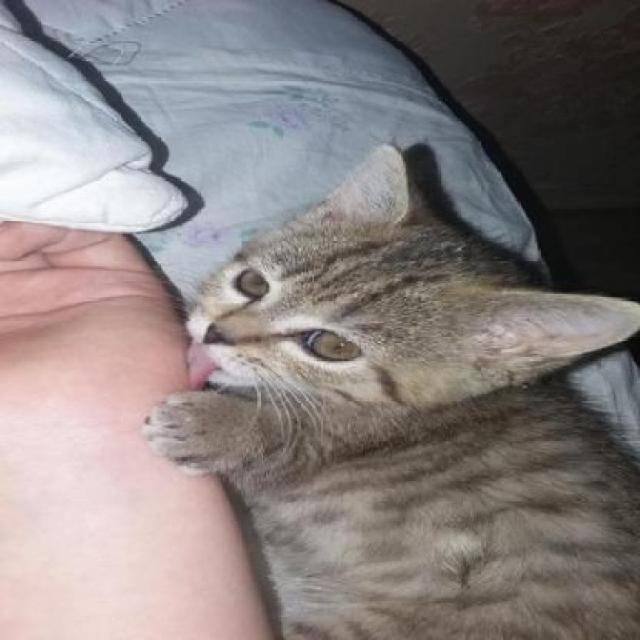cat: (155, 151, 640, 640)
